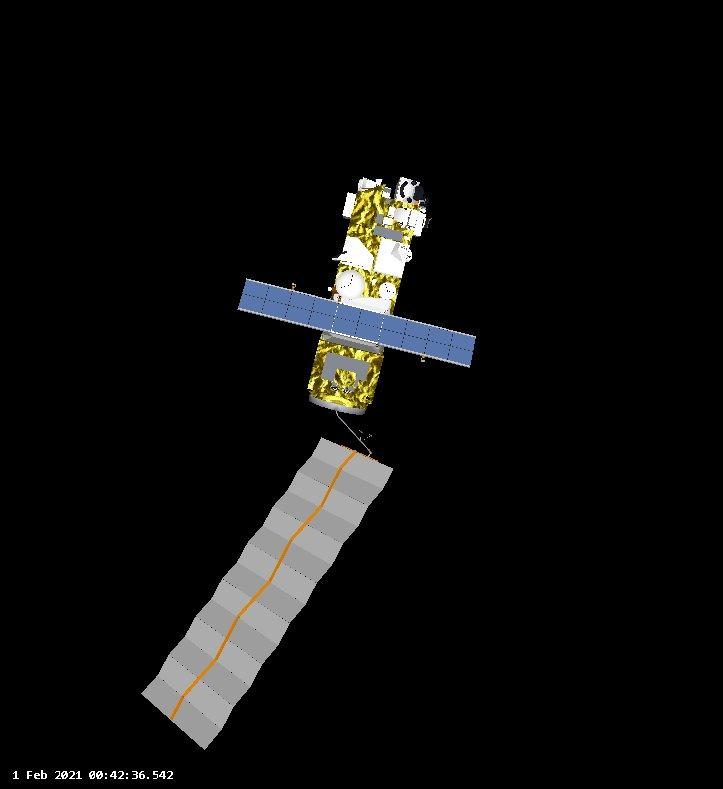antenna: (333, 268, 367, 302), (378, 281, 398, 301)
body: (305, 177, 426, 417)
solar: (138, 435, 397, 752), (235, 276, 478, 371)
